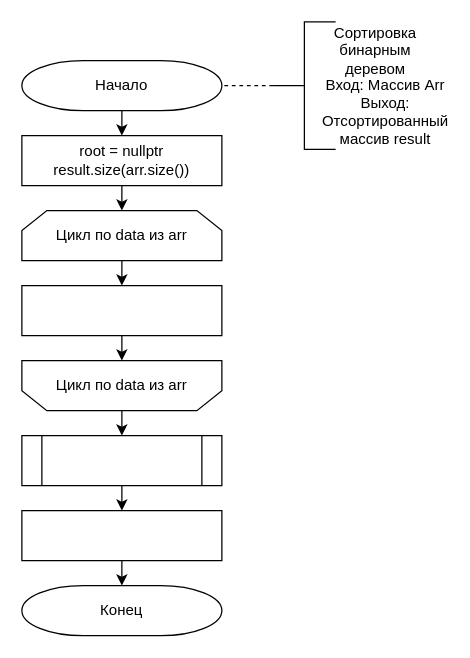
This 470x658 diagram has some shape labels left out. The shapes that lost their labels are listed below. From the top down, each one's box as (x1, y1, x2, y2) in pixels, then its label:
(21, 284, 222, 336): root = insert(root, data)
(21, 434, 222, 486): inorder_traversal(root, result)
(21, 509, 222, 561): Вернуть result
